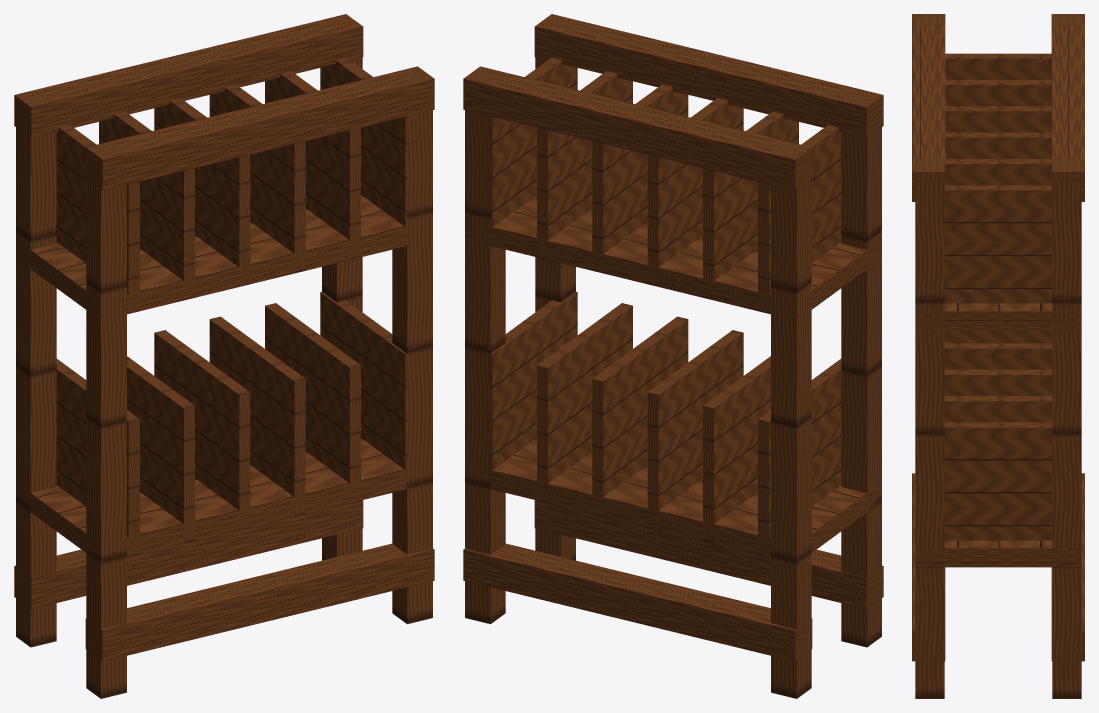
The model's file is roadside-survival-stops-pump-fire-equipment-frame-257cba13__23579.glb.
The picture shows the model from 3 angles, left to right: view 1: azimuth 30°, elevation 25°; view 2: azimuth 150°, elevation 25°; view 3: azimuth 270°, elevation 25°; orthographic projection. The views are drawn at different scales.
Parts seen in each view (by area): view 1: pump-fire-equipment-frame; view 2: pump-fire-equipment-frame; view 3: pump-fire-equipment-frame.
Part boxes in pixels (bbox=[...]): pump-fire-equipment-frame: bbox=[14, 14, 434, 698]; pump-fire-equipment-frame: bbox=[463, 14, 883, 698]; pump-fire-equipment-frame: bbox=[912, 14, 1084, 698].
Size of the model in its own units: 0.9001 by 1.4 by 0.416.
Materials: 1 (1 with a texture image).
